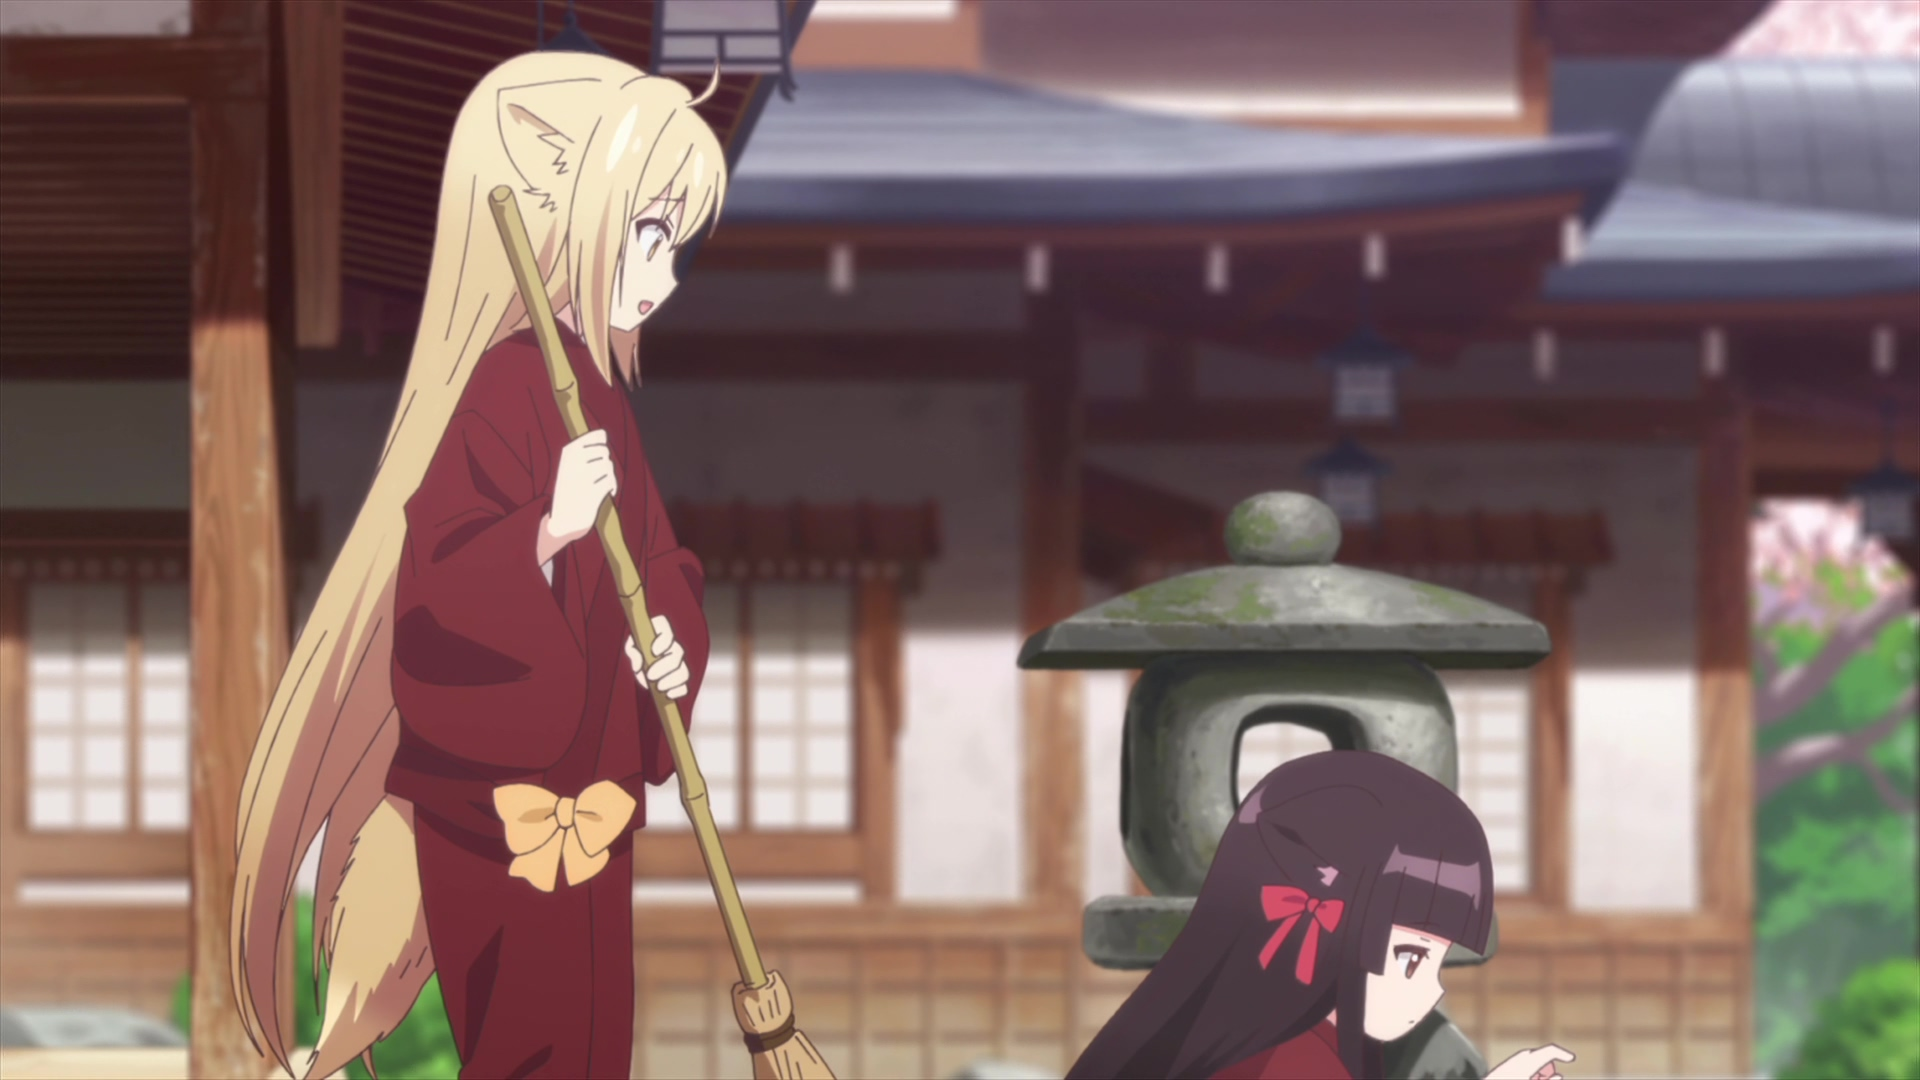柚: (229, 47, 727, 1080)
樱: (1055, 750, 1575, 1080)
